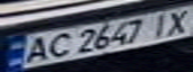2: (75, 25, 100, 54)
4: (109, 20, 133, 47)
6: (93, 22, 115, 51)
7: (124, 16, 151, 44)
A: (18, 34, 54, 65)
C: (42, 30, 75, 60)
I: (145, 11, 175, 39)
X: (160, 7, 193, 36)
